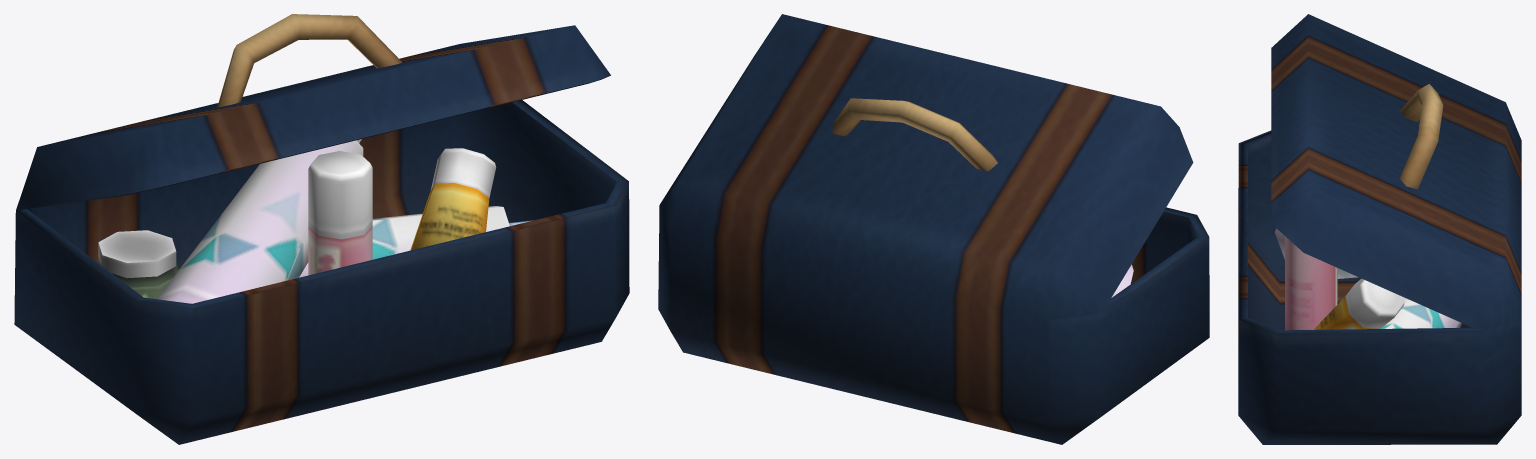
The model's file is XianYiRenJia_01_huazhuangbao_01.FBX.
The picture shows the model from 3 angles, left to right: view 1: azimuth 30°, elevation 25°; view 2: azimuth 150°, elevation 25°; view 3: azimuth 270°, elevation 25°; orthographic projection. The views are drawn at different scales.
Visible parts, largest first — view 1: polySurface13; view 2: polySurface13; view 3: polySurface13.
Part boxes in pixels (x1,y1,x2,y2): polySurface13: (14,14,629,444); polySurface13: (658,14,1209,444); polySurface13: (1238,14,1521,444).
Size of the model in its own units: 145 by 85.66 by 84.16.
